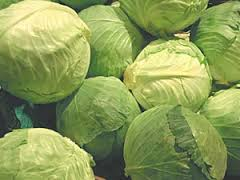cabbage: (1, 1, 92, 106), (57, 78, 144, 166), (124, 111, 232, 180), (130, 36, 213, 116)
